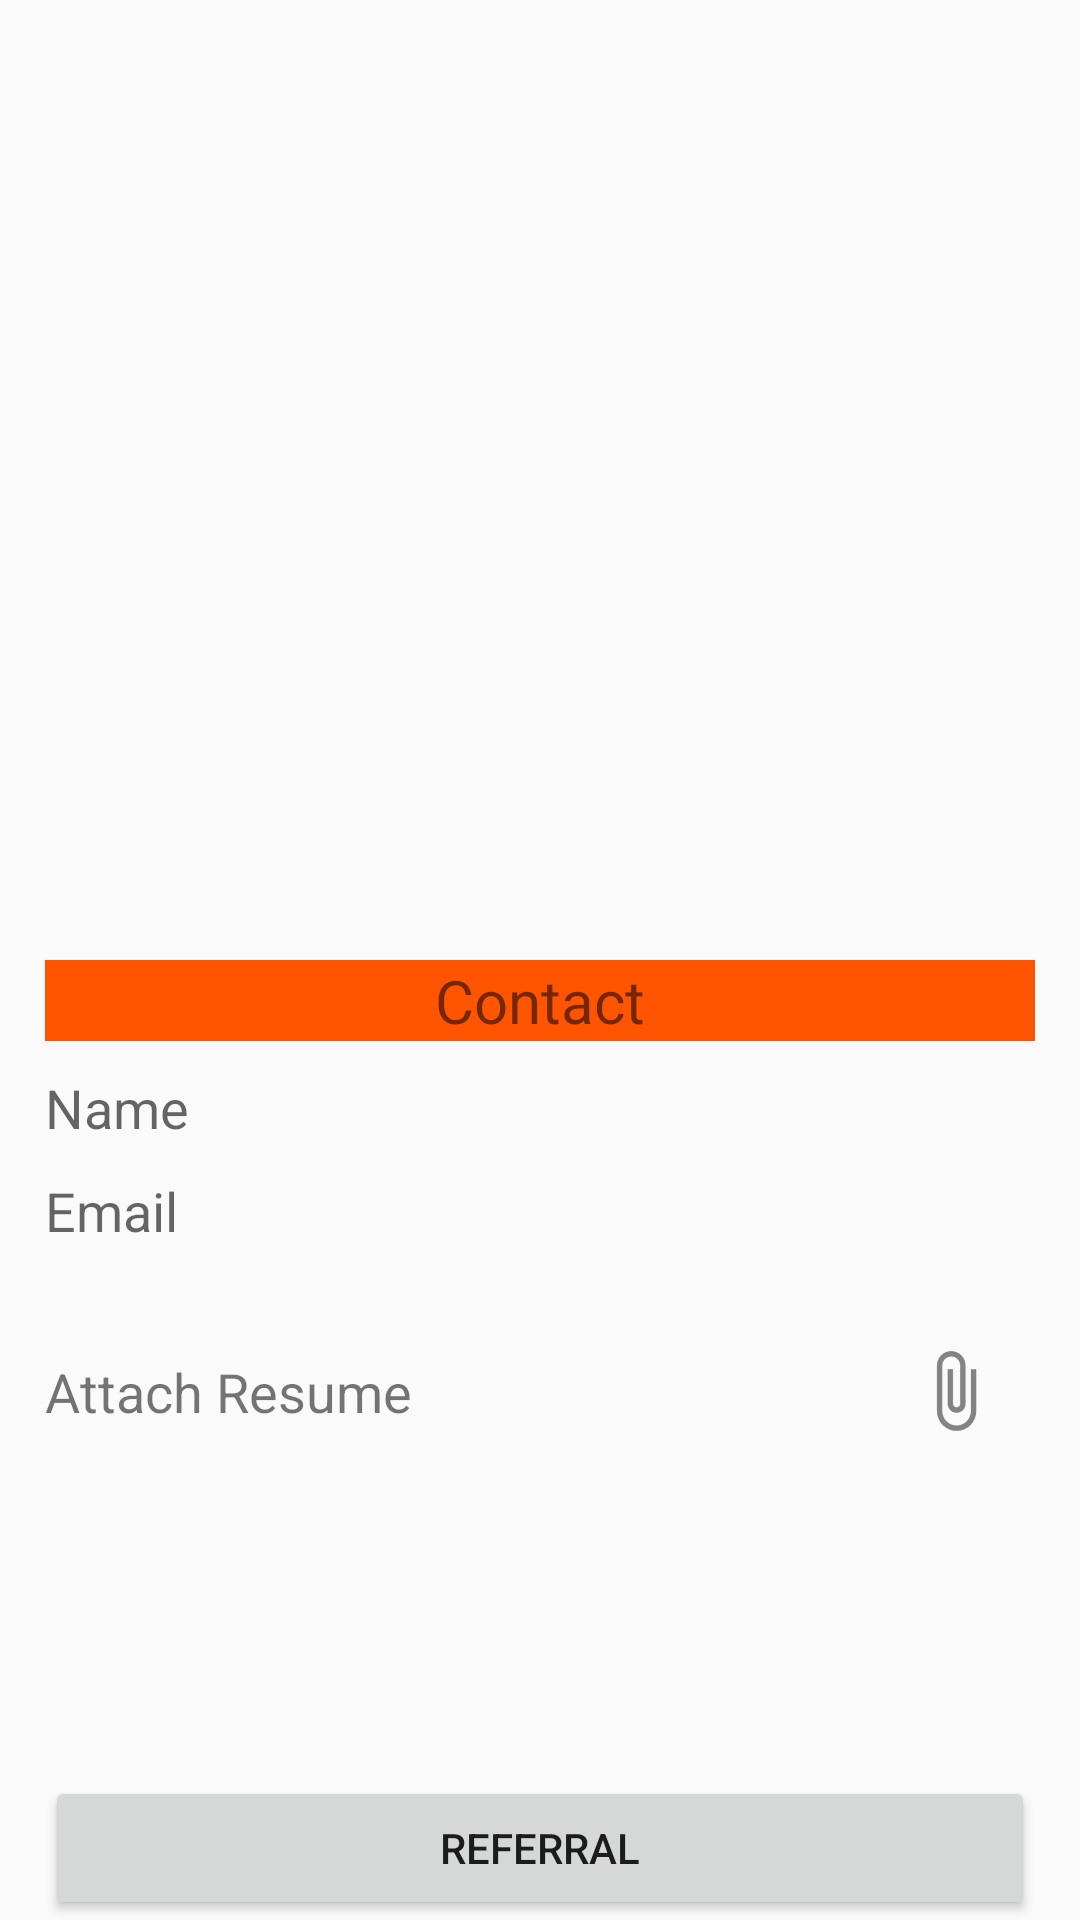

Where to tap for icons on this 1080px×1920px app screen, as [x,y]:
attach file: [957,1391]
